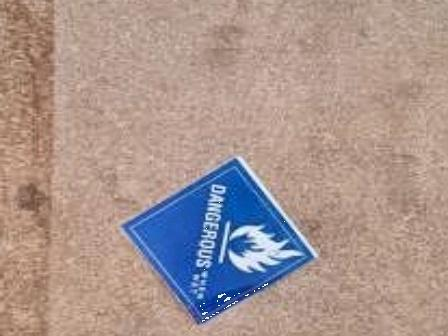dangerous-when-wet: (119, 153, 322, 326)
